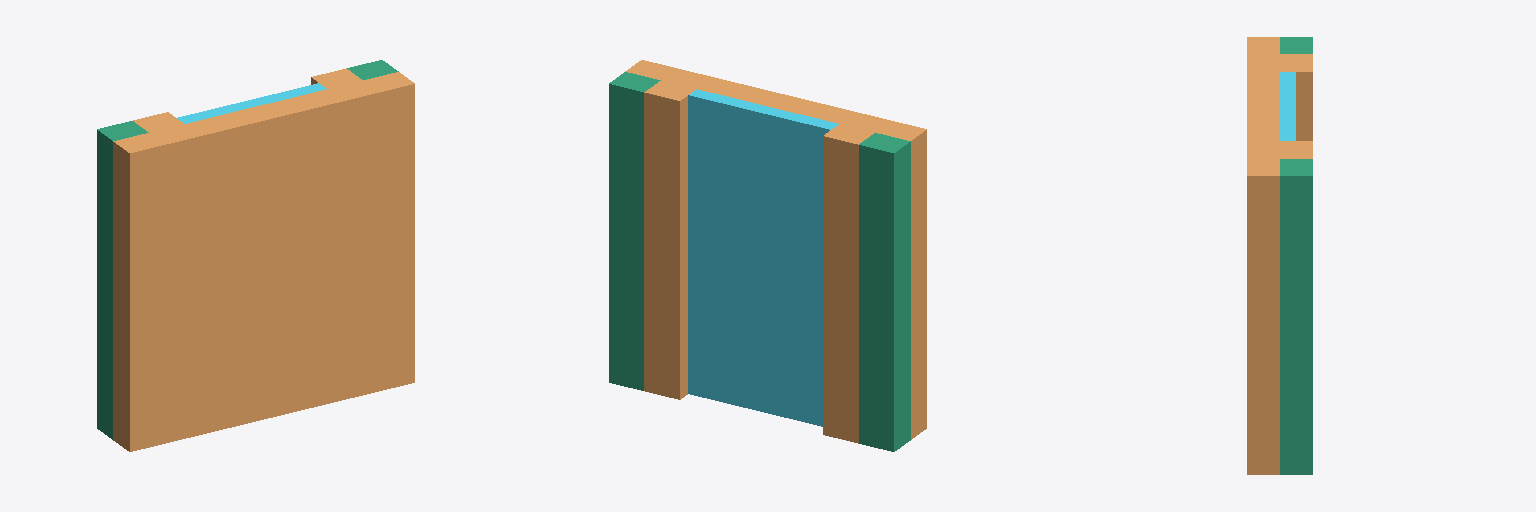
File: tile_riverStraight.obj
3 renders of one model, left to right at view 1: azimuth 30°, elevation 25°; view 2: azimuth 150°, elevation 25°; view 3: azimuth 270°, elevation 25°, orthographic.
Parts seen in each view (by area): view 1: tile_riverStraight.002; view 2: tile_riverStraight.002; view 3: tile_riverStraight.002.
Boxes of the visible parts, x1,y1,x2,y2 form: tile_riverStraight.002: [97, 60, 414, 451]; tile_riverStraight.002: [609, 60, 926, 451]; tile_riverStraight.002: [1247, 37, 1312, 474].
Bounding box in the file's own units: 1 × 1 × 0.2.